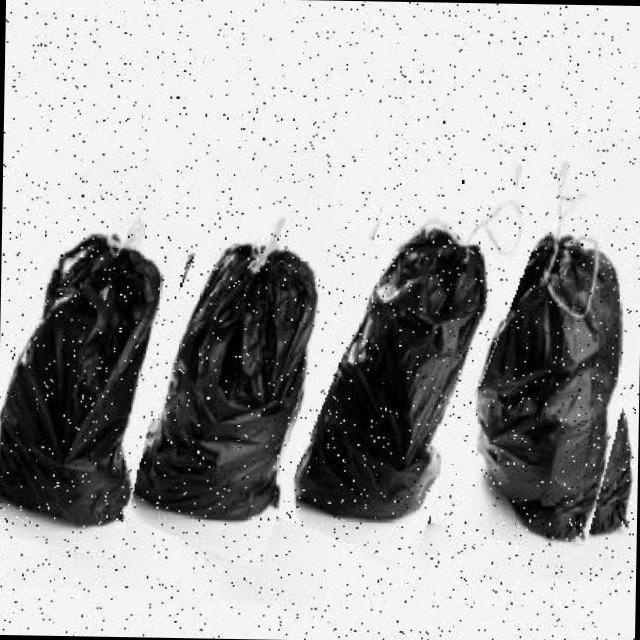KantongPlastik: (294, 222, 490, 522), (133, 239, 320, 522), (474, 228, 636, 542), (0, 229, 163, 526)
